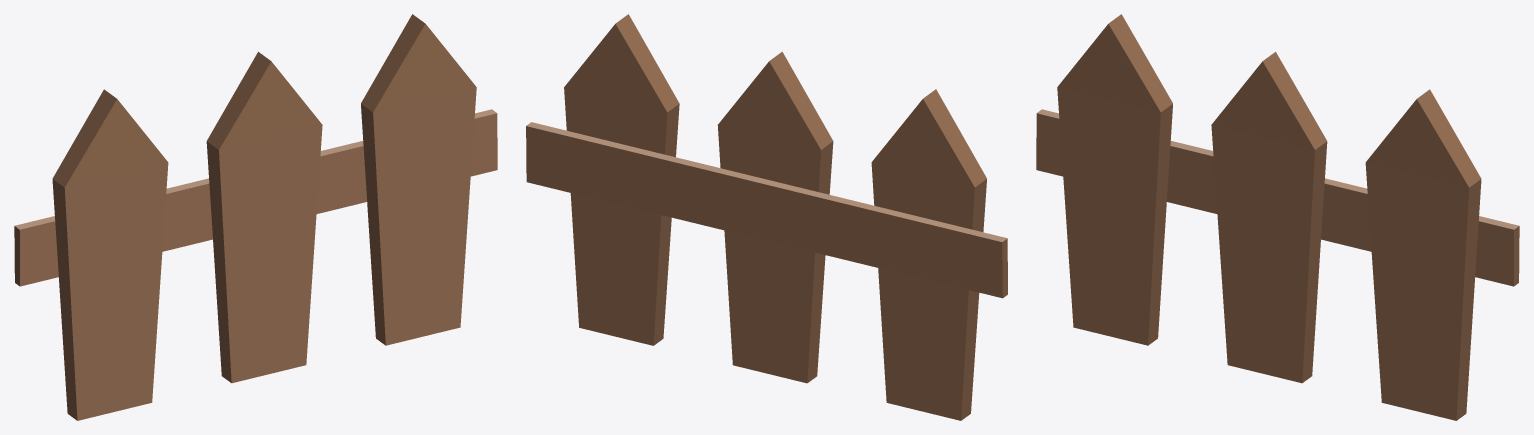
The model's file is fence.fbx.
3 renders of one model, left to right at view 1: azimuth 30°, elevation 25°; view 2: azimuth 150°, elevation 25°; view 3: azimuth 330°, elevation 25°, orthographic.
Parts seen in each view (by area): view 1: board1, board3, board4, board2; view 2: board2, board3, board1, board4; view 3: board1, board3, board4, board2.
Part boxes in pixels (<box>): board1: <box>206,51,322,383</box>; board3: <box>361,14,476,345</box>; board4: <box>52,89,168,420</box>; board2: <box>14,109,497,286</box>; board2: <box>526,122,1007,298</box>; board3: <box>564,14,679,345</box>; board1: <box>717,51,833,383</box>; board4: <box>871,89,986,420</box>; board1: <box>1211,51,1327,383</box>; board3: <box>1365,89,1481,420</box>; board4: <box>1057,14,1172,345</box>; board2: <box>1036,109,1519,286</box>.
Size of the model in its own units: 92.93 by 58.53 by 6.15.
Materials: 1 (1 with a texture image).
